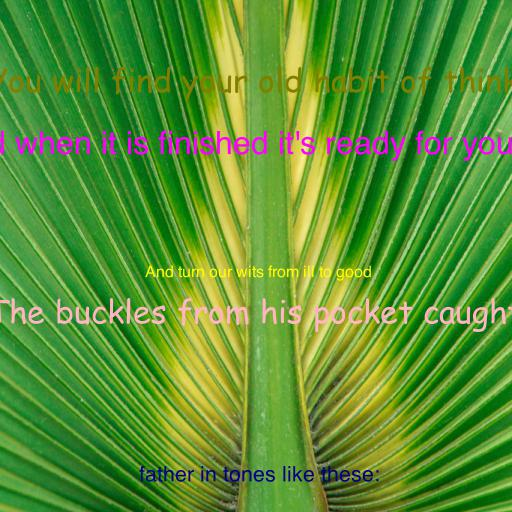Comic Sans MS: (0, 66, 512, 102), (0, 298, 512, 333)
Helvetica: (144, 265, 372, 281)
Impact: (0, 130, 512, 161), (138, 465, 380, 482)
